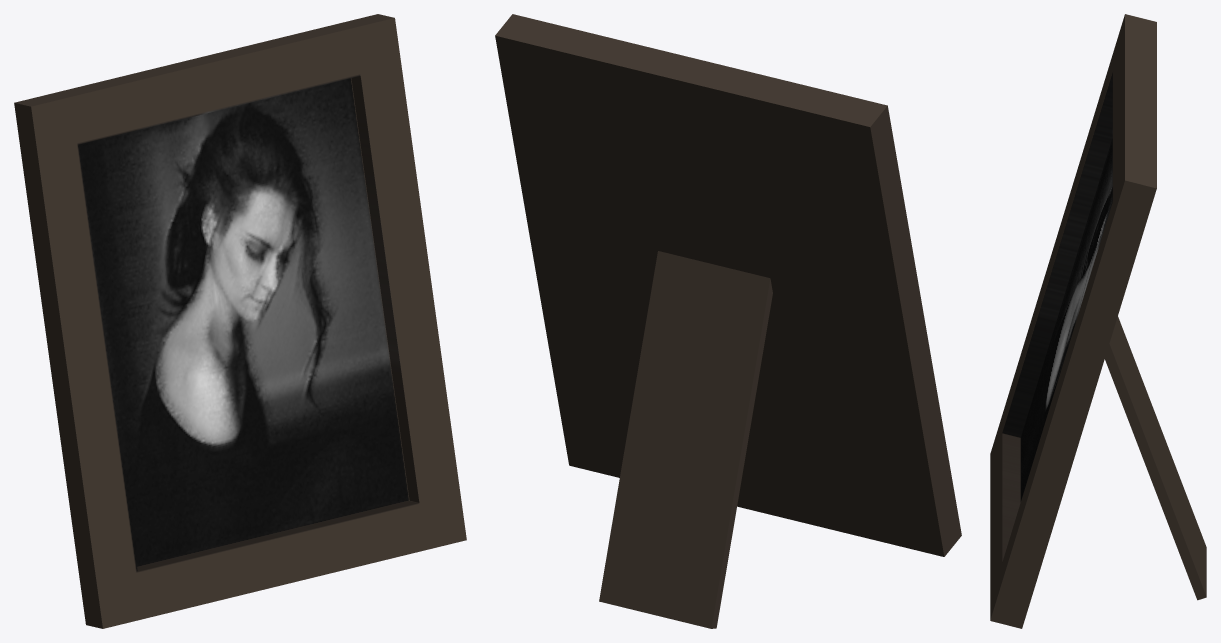
File: bingkai.fbx
The picture shows the model from 3 angles, left to right: view 1: azimuth 30°, elevation 25°; view 2: azimuth 150°, elevation 25°; view 3: azimuth 270°, elevation 25°; orthographic projection. The views are drawn at different scales.
Visible parts, largest first — view 1: Cube; view 2: Cube, Cube.001; view 3: Cube, Cube.001.
Part boxes in pixels (x1,y1,x2,y2): Cube: [14, 14, 466, 628]; Cube: [495, 14, 961, 556]; Cube.001: [599, 251, 772, 628]; Cube: [990, 14, 1156, 628]; Cube.001: [1105, 316, 1206, 600].
Size of the model in its own units: 200 by 268 by 110.
2 materials, 2 textured.
